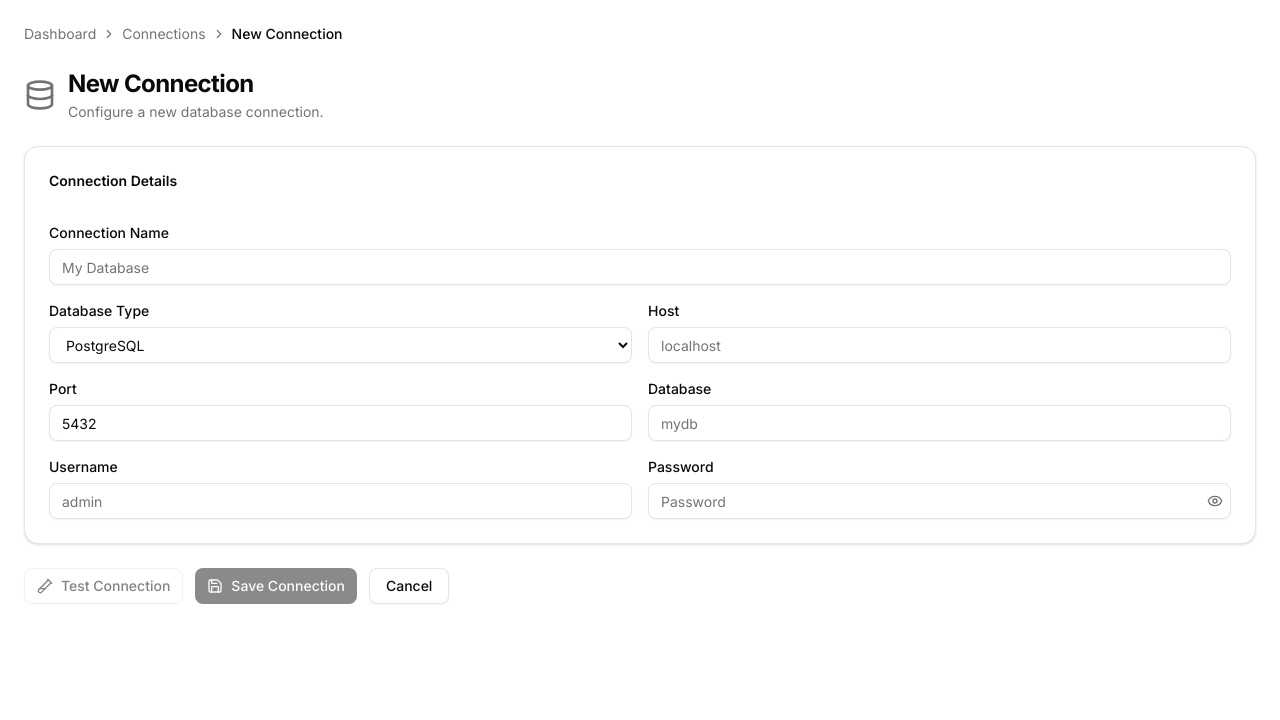
Scenario: ConnectionFormPage › new connection mode › auto-fills port when db_type changes to MySQL
Select "MySQL" in the dropdown with test id "select-db-type" at (340, 345), box [49, 327, 632, 363]
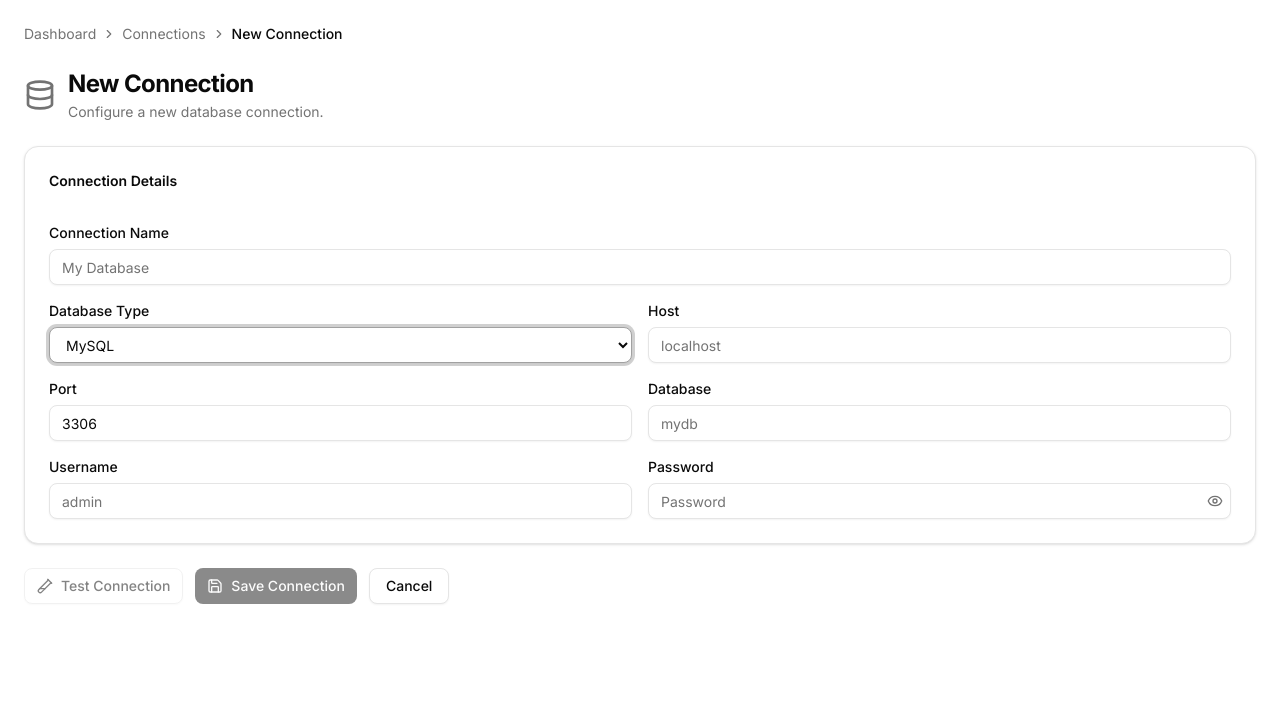
Expected: the field with test id "input-port" holds "3306", [49, 405, 632, 441]
